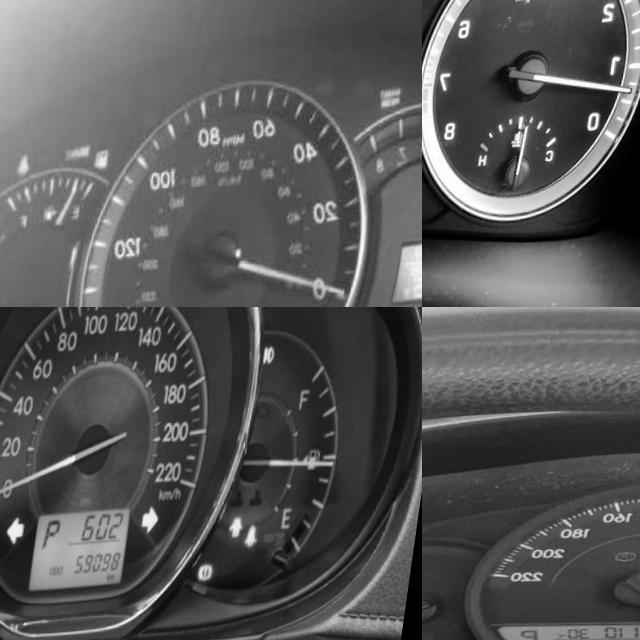Seat Belt: (25, 154, 42, 179), (259, 531, 272, 554)
